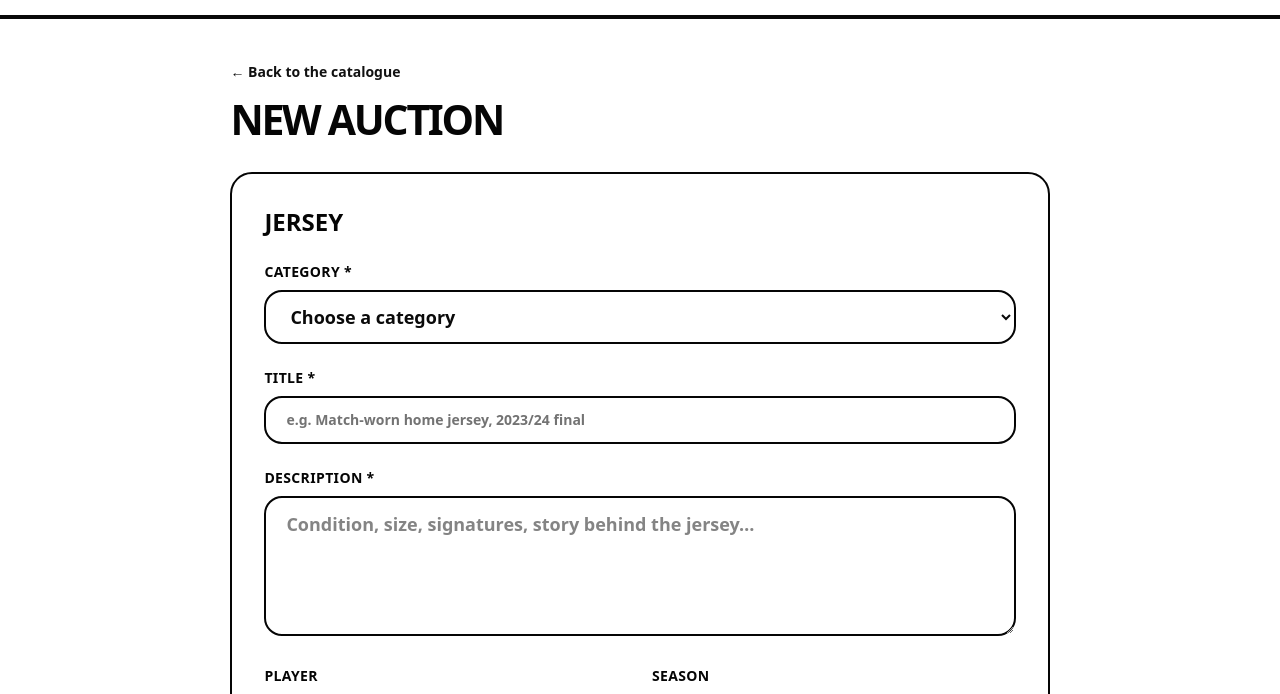
Test case: NewListingView: player fields by category › hides the player fields for team jerseys but keeps the size
Select "Team jerseys" in the dropdown labelled "Category *" at (640,317), box top-left (264, 290), bottom-right (1016, 344)
(page scrolled)
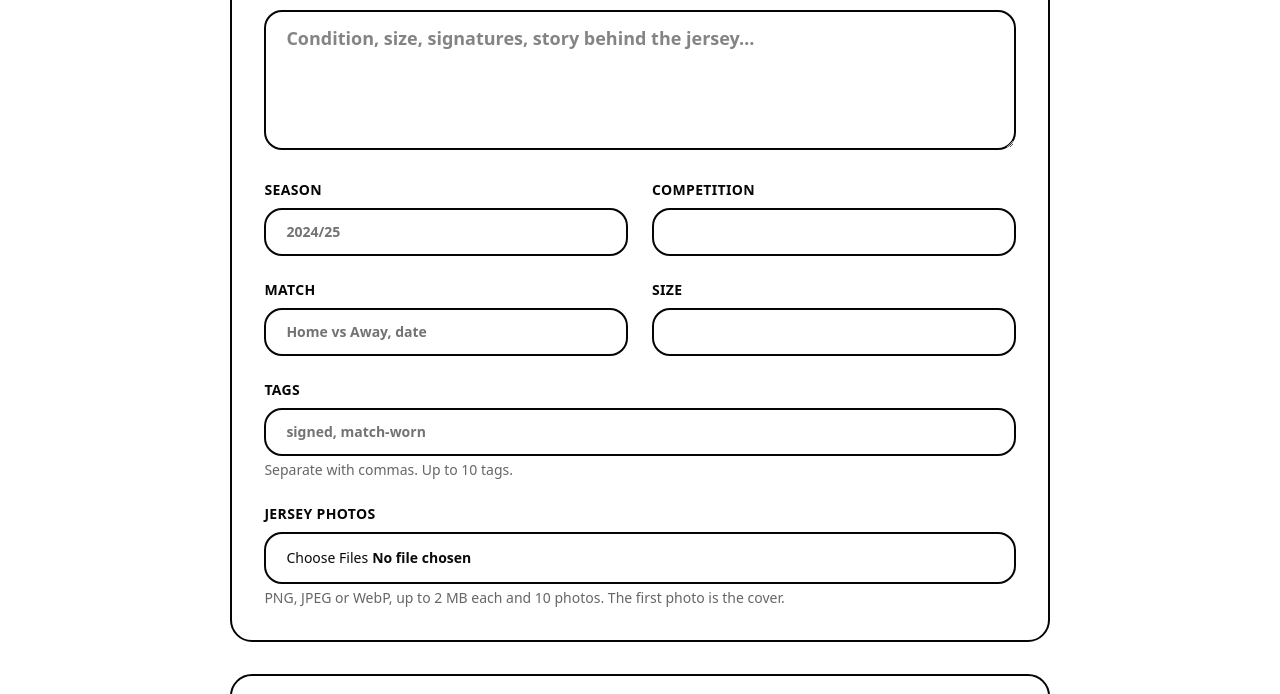
Expected: the field labelled "Size" is shown, top-left (652, 308), bottom-right (1016, 356)
Expected: the label labelled "Player" is gone
